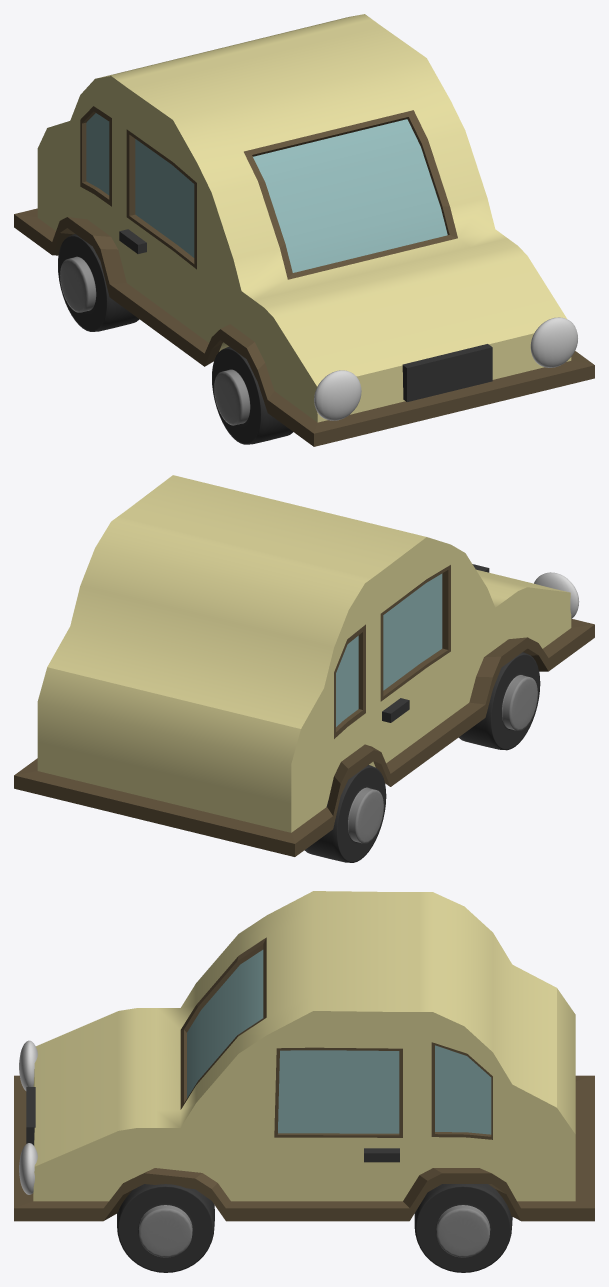
The model's file is car#1.fbx.
The picture shows the model from 3 angles, top to bottom: view 1: azimuth 30°, elevation 25°; view 2: azimuth 150°, elevation 25°; view 3: azimuth 270°, elevation 25°; orthographic projection. The views are drawn at different scales.
Visible parts, largest first — view 1: pCube19, pCylinder9, pCylinder1, pSphere10, pCube3; view 2: pCube19, pCylinder9, pCylinder1, pSphere10; view 3: pCube19, pCylinder11, pCylinder12, pSphere10, pCube3.
Boxes of the visible parts, x1,y1,x2,y2 form: pCube19: (14,14,594,446); pCylinder9: (212,346,292,444); pCylinder1: (58,234,139,331); pSphere10: (314,317,577,420); pCube3: (402,344,492,401); pCube19: (14,475,594,856); pCylinder9: (458,652,540,750); pCylinder1: (304,765,386,862); pSphere10: (534,572,579,618); pCube19: (14,891,594,1221); pCylinder11: (117,1184,214,1272); pCylinder12: (414,1184,512,1272); pSphere10: (19,1040,37,1194); pCube3: (26,1087,35,1145).
Size of the model in its own units: 6.27 by 5.22 by 10.77.
